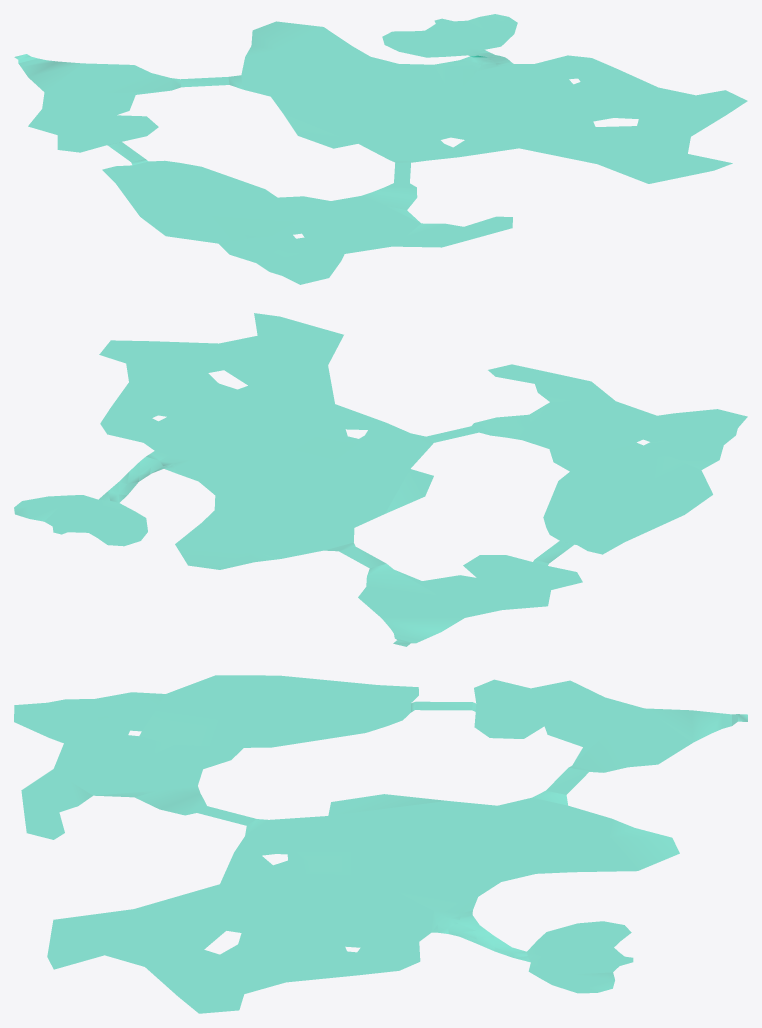
Rendered from zshh_coli 1.FBX.
The picture shows the model from 3 angles, top to bottom: view 1: azimuth 30°, elevation 25°; view 2: azimuth 150°, elevation 25°; view 3: azimuth 270°, elevation 25°; orthographic projection. The views are drawn at different scales.
Parts seen in each view (by area): view 1: zshh_coli_1; view 2: zshh_coli_1; view 3: zshh_coli_1.
Part boxes in pixels (x1,y1,x2,y2): zshh_coli_1: (14,14,747,284); zshh_coli_1: (14,313,747,646); zshh_coli_1: (14,675,747,1013).
Size of the model in its own units: 11596 by 409 by 10623.
